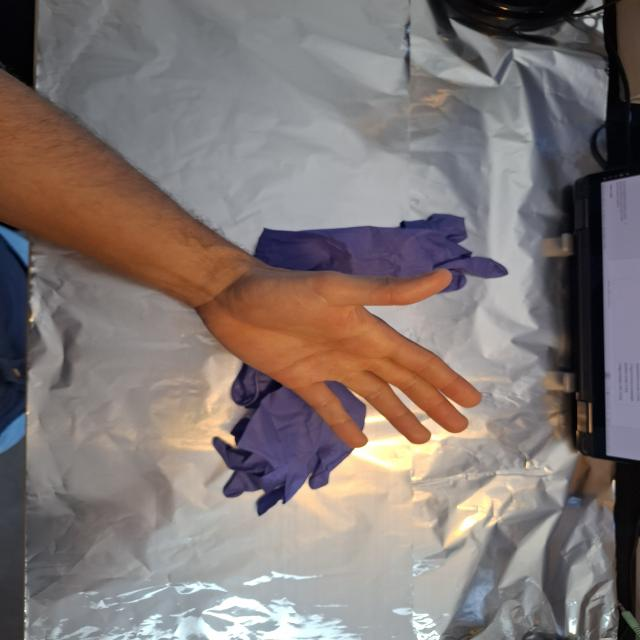glove_off: (191, 262, 486, 448)
